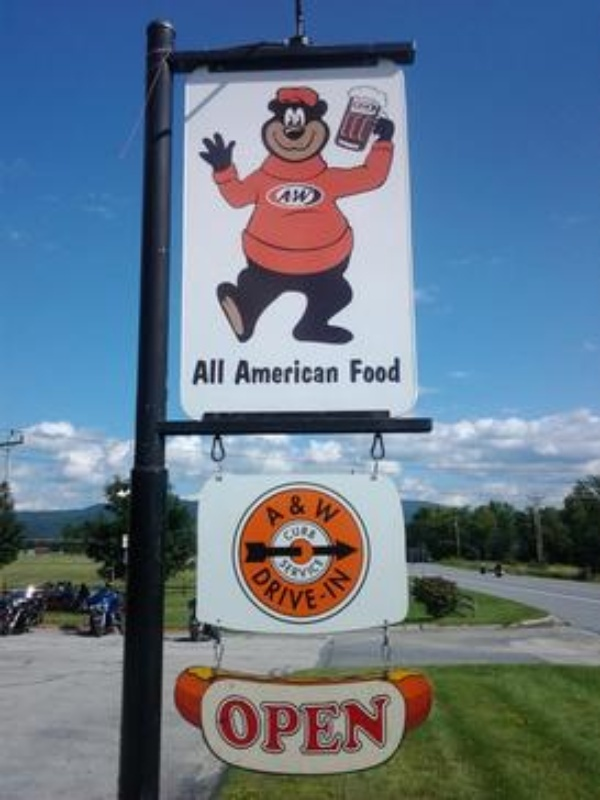text: (225, 693, 240, 754), (241, 693, 256, 754), (257, 693, 272, 754), (273, 693, 288, 754), (289, 693, 304, 754), (305, 693, 320, 754), (321, 693, 336, 754), (337, 693, 352, 754), (353, 693, 368, 754), (369, 693, 384, 754), (273, 565, 288, 622), (289, 565, 304, 622), (305, 565, 317, 622), (214, 693, 224, 754), (321, 565, 336, 605), (337, 565, 352, 605), (385, 354, 401, 383), (209, 357, 225, 385), (353, 354, 368, 383), (369, 354, 384, 383), (193, 357, 208, 385), (321, 495, 336, 521), (241, 359, 256, 385), (257, 359, 272, 385), (273, 359, 288, 385), (289, 359, 304, 385), (305, 359, 320, 385), (321, 359, 336, 385), (289, 557, 304, 581), (305, 557, 320, 581), (266, 565, 272, 622), (289, 495, 304, 517), (289, 521, 304, 543), (273, 504, 286, 528), (305, 521, 319, 543), (385, 693, 390, 754), (289, 187, 304, 205), (277, 557, 288, 581), (277, 521, 288, 543), (277, 187, 288, 205), (264, 504, 272, 528), (233, 359, 240, 385), (321, 557, 328, 581), (315, 495, 320, 521), (317, 565, 320, 605), (305, 187, 310, 205), (321, 592, 328, 603), (305, 495, 308, 517), (350, 354, 352, 383), (337, 495, 339, 521), (337, 359, 339, 385), (286, 495, 288, 517), (353, 565, 354, 605), (317, 592, 320, 603)
